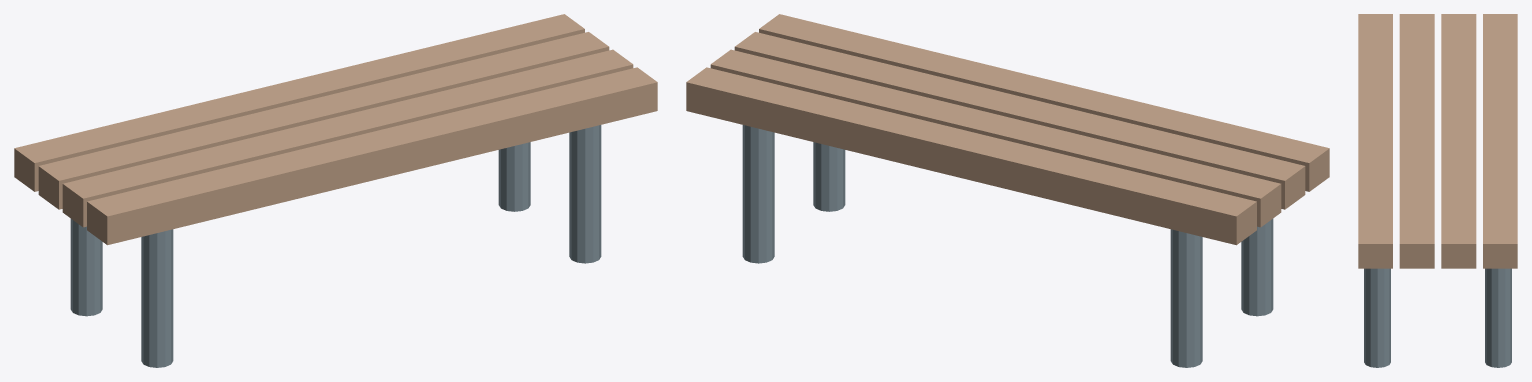
File: bench.glb
3 renders of one model, left to right at view 1: azimuth 30°, elevation 25°; view 2: azimuth 150°, elevation 25°; view 3: azimuth 270°, elevation 25°, orthographic. The views are drawn at different scales.
Parts seen in each view (by area): view 1: bench_000, bench_001, bench_002, bench_003, bench_004, bench_006, bench_005, bench_007; view 2: bench_003, bench_002, bench_001, bench_000, bench_005, bench_007, bench_004, bench_006; view 3: bench_001, bench_002, bench_000, bench_003, bench_006, bench_007.
Part boxes in pixels (x1=…): bench_000: x1=87, y1=67, x2=657, y2=245; bench_001: x1=62, y1=49, x2=633, y2=227; bench_002: x1=38, y1=32, x2=609, y2=209; bench_003: x1=14, y1=14, x2=584, y2=191; bench_004: x1=141, y1=229, x2=173, y2=367; bench_006: x1=569, y1=125, x2=601, y2=263; bench_005: x1=70, y1=218, x2=102, y2=316; bench_007: x1=498, y1=142, x2=530, y2=211; bench_003: x1=686, y1=67, x2=1256, y2=245; bench_002: x1=710, y1=49, x2=1281, y2=227; bench_001: x1=734, y1=32, x2=1305, y2=209; bench_000: x1=759, y1=14, x2=1329, y2=191; bench_005: x1=1170, y1=229, x2=1202, y2=367; bench_007: x1=742, y1=125, x2=774, y2=263; bench_004: x1=1241, y1=218, x2=1273, y2=316; bench_006: x1=813, y1=142, x2=845, y2=211; bench_001: x1=1399, y1=14, x2=1434, y2=268; bench_002: x1=1441, y1=14, x2=1476, y2=268; bench_000: x1=1358, y1=14, x2=1392, y2=268; bench_003: x1=1483, y1=14, x2=1517, y2=268; bench_006: x1=1364, y1=268, x2=1390, y2=367; bench_007: x1=1485, y1=268, x2=1511, y2=367.
Bounding box in the file's own units: 1.8 × 0.525 × 0.528.
